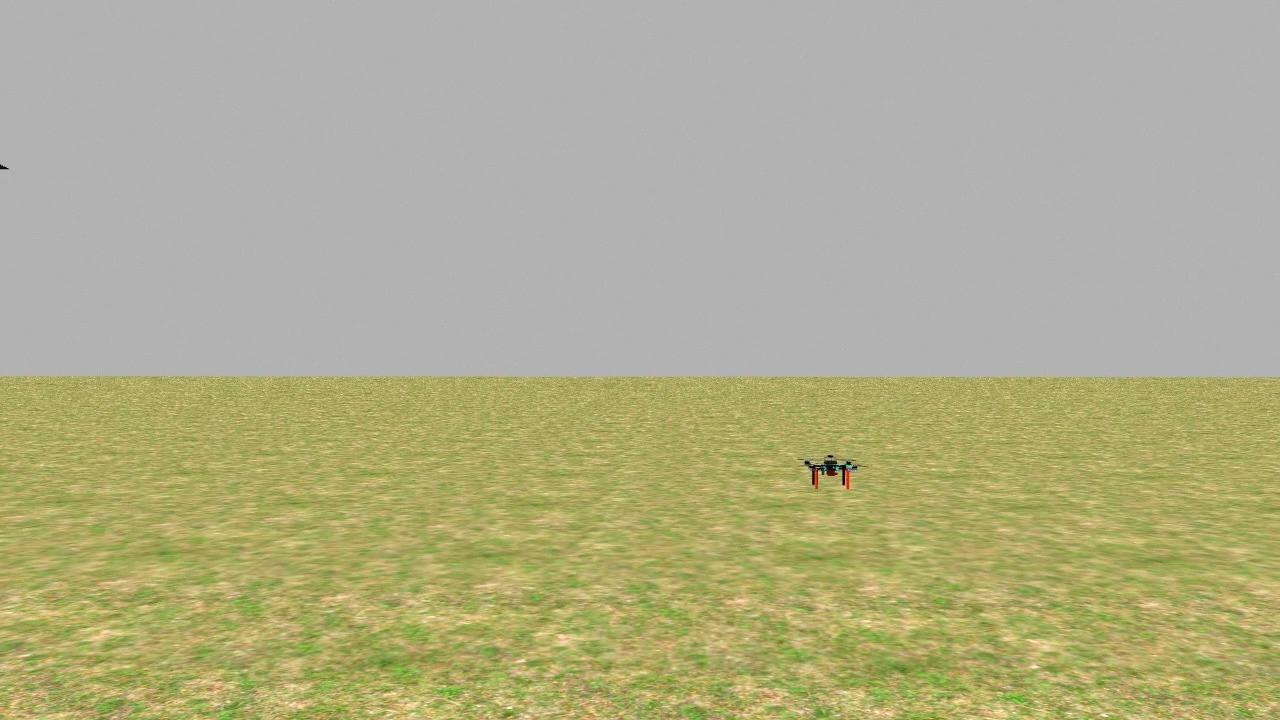UAV: (795, 427, 869, 501)
